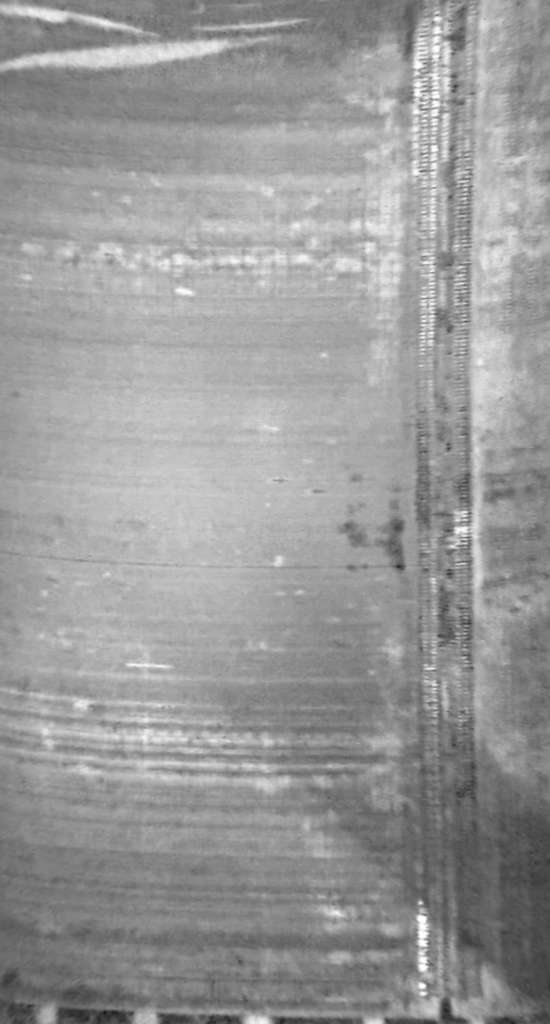splice: (404, 3, 492, 1024)
